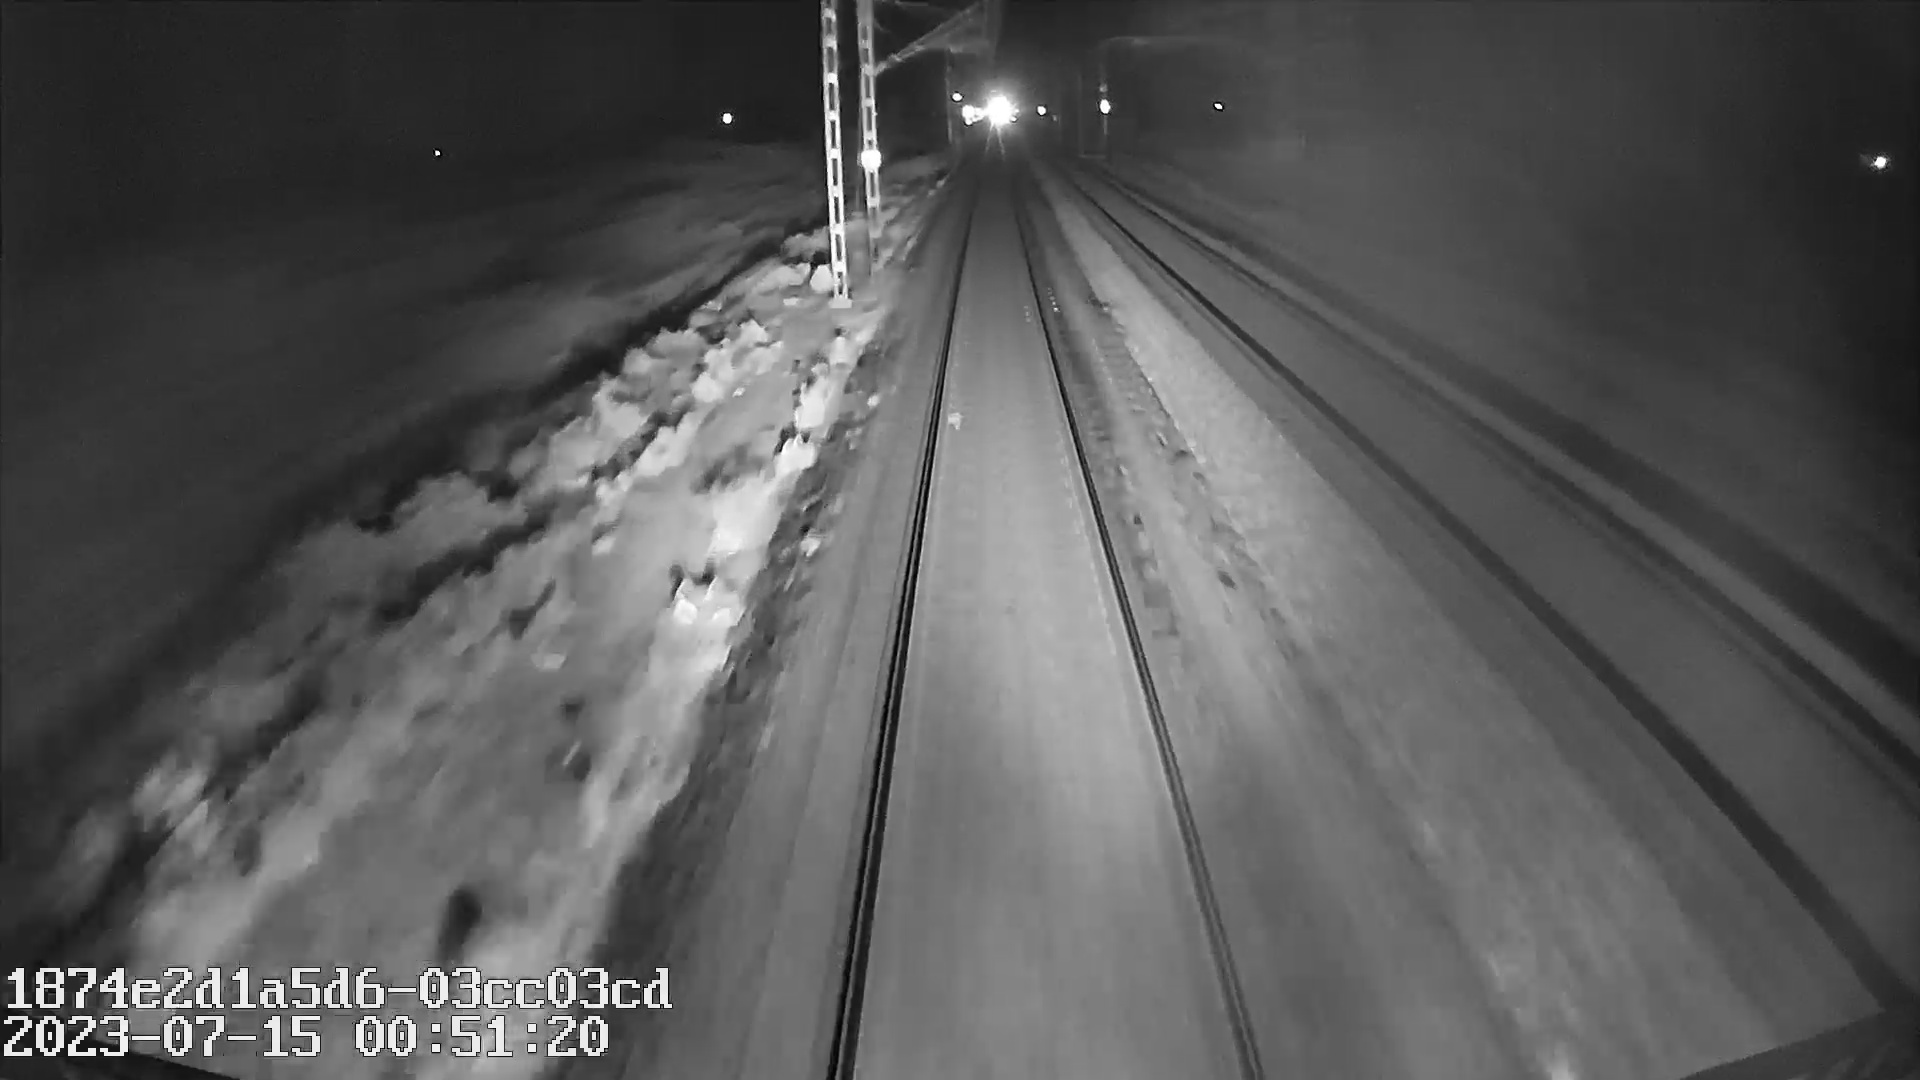track1: (843, 181, 1246, 1050)
track2: (1081, 185, 1904, 876)
